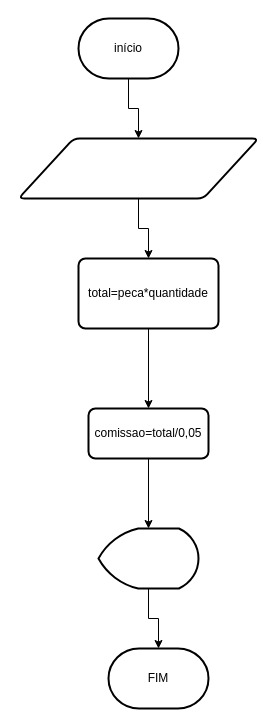
Some shapes in this 276 by 726 pixel diagram are drawn without their labels. Here are the shapes that lost their labels. From the top down, the centre of each, then its label:
(x=138, y=168): peca.quantidade.total.comissao
(x=148, y=558): comissao
